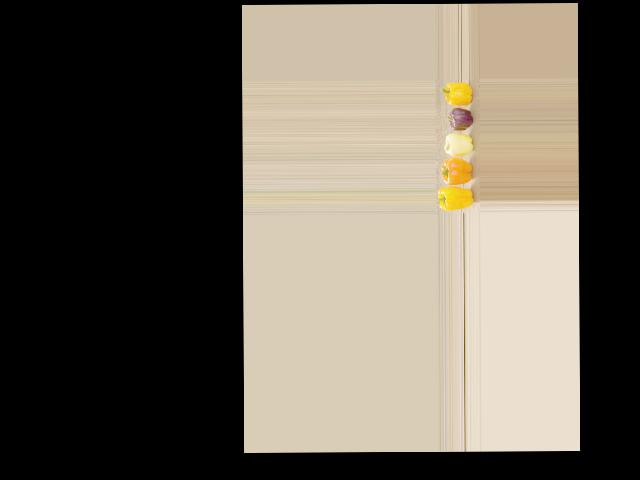bell_pepper: (439, 80, 478, 103)
